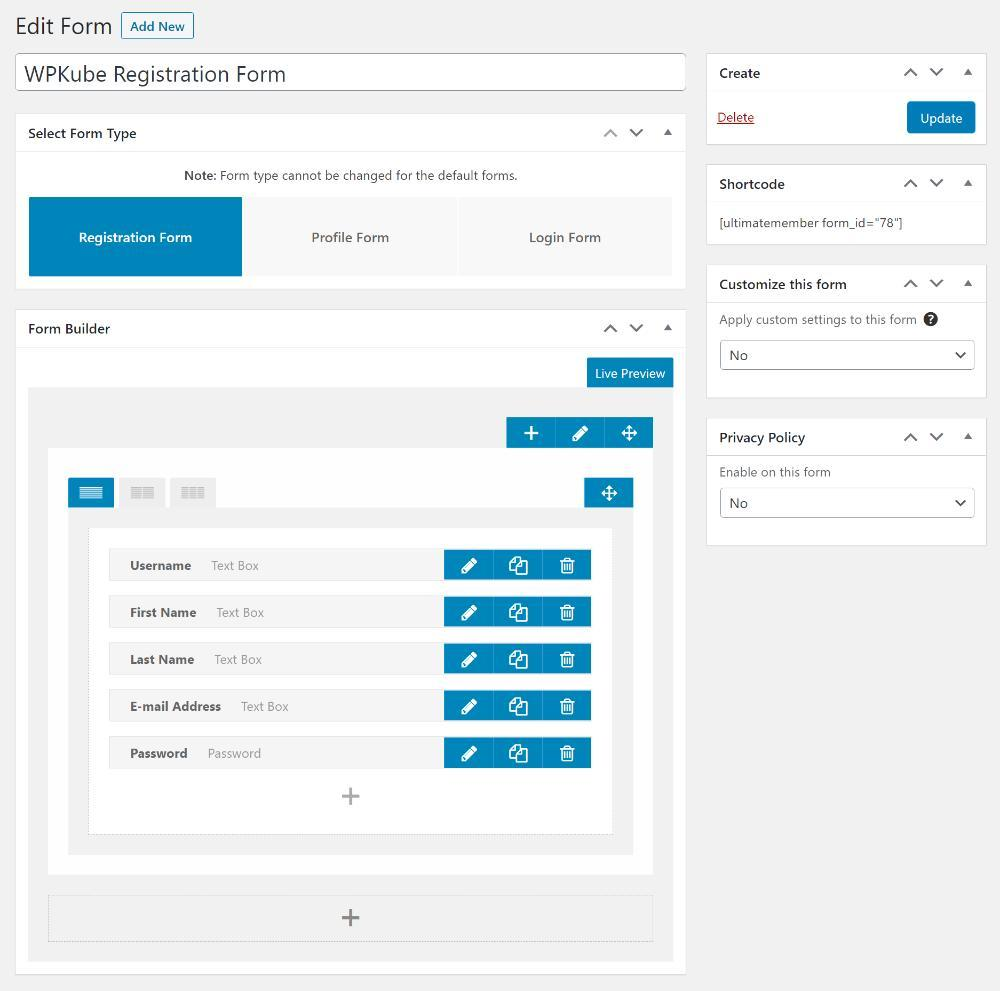button: (243, 196, 458, 278), (459, 196, 672, 278), (30, 197, 243, 278), (588, 358, 673, 388), (910, 102, 975, 134), (123, 13, 194, 38)
dropdown: (723, 488, 978, 518), (722, 343, 976, 370)
icon: (504, 646, 534, 674), (506, 599, 532, 626), (506, 693, 532, 720), (503, 555, 533, 578), (338, 905, 363, 931), (179, 484, 213, 503), (127, 484, 159, 504), (568, 422, 594, 446), (77, 484, 109, 502), (506, 744, 531, 767), (619, 422, 644, 445), (554, 556, 581, 576), (459, 556, 483, 578), (522, 422, 544, 446), (341, 784, 364, 806), (557, 649, 579, 672), (599, 484, 624, 504), (557, 697, 578, 719), (458, 745, 481, 765), (461, 601, 480, 625), (601, 124, 623, 144), (461, 696, 482, 716), (559, 604, 579, 624), (459, 654, 481, 672), (559, 745, 578, 765), (600, 324, 623, 339), (929, 429, 948, 447), (628, 126, 650, 141), (903, 429, 920, 448), (931, 63, 948, 80), (905, 279, 922, 296), (924, 313, 942, 329), (904, 179, 923, 194), (903, 65, 920, 81), (964, 176, 979, 194), (661, 322, 678, 337), (929, 176, 947, 190), (964, 430, 979, 446), (931, 277, 944, 294), (964, 277, 977, 294), (663, 128, 678, 141), (630, 323, 646, 335), (963, 66, 974, 81)
label: (11, 14, 115, 41), (719, 277, 849, 297), (28, 124, 142, 146), (720, 427, 808, 450), (127, 698, 225, 718), (128, 602, 201, 624), (24, 324, 119, 339), (127, 558, 199, 575), (122, 745, 192, 762), (722, 177, 787, 195), (129, 653, 202, 668), (714, 109, 759, 128), (718, 65, 765, 83)
